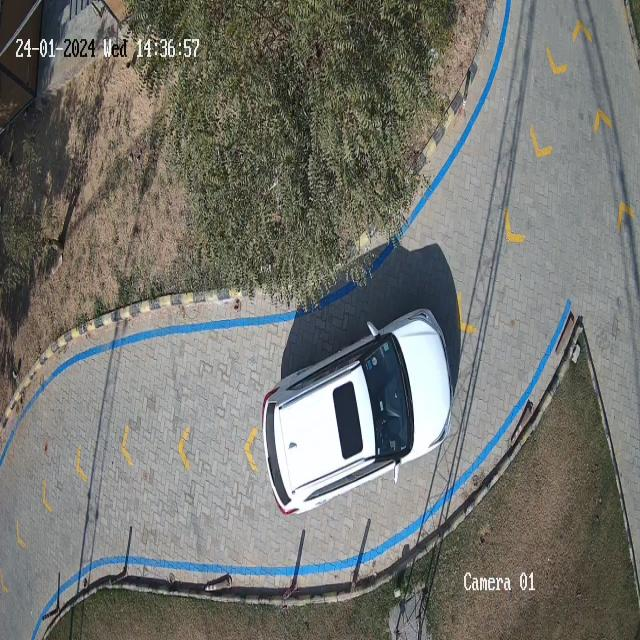car: (262, 311, 452, 516)
